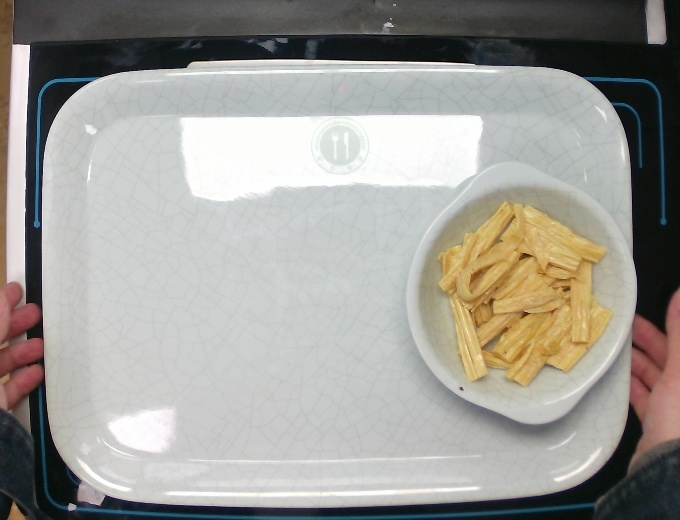JYsf-Shuang_Er_Wan: (402, 155, 641, 427)
